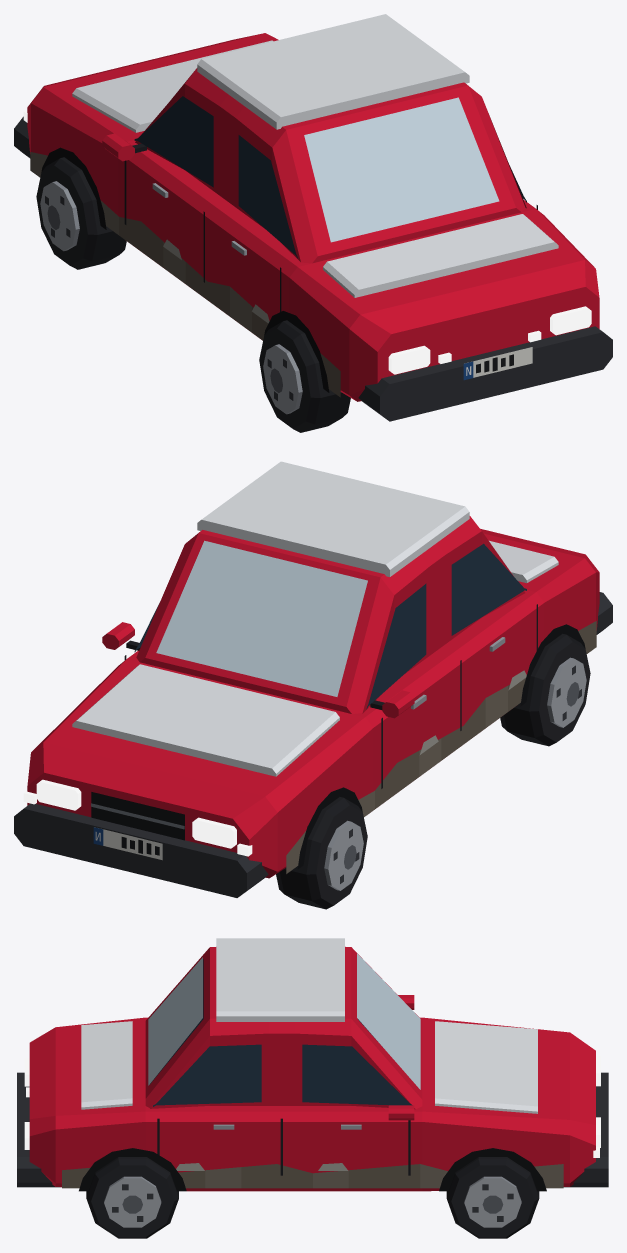
Rendered from sedan.glb.
The picture shows the model from 3 angles, top to bottom: view 1: azimuth 30°, elevation 25°; view 2: azimuth 150°, elevation 25°; view 3: azimuth 270°, elevation 25°; orthographic projection. The views are drawn at different scales.
Visible parts, largest first — view 1: body, wheel_RL, wheel_FL; view 2: body, wheel_FL, wheel_RL; view 3: body, wheel_FR, wheel_RR.
Part boxes in pixels (bbox=[...]): body: bbox=[14, 14, 612, 421]; wheel_RL: bbox=[259, 320, 350, 432]; wheel_FL: bbox=[36, 157, 126, 269]; body: bbox=[14, 461, 612, 897]; wheel_FL: bbox=[276, 797, 367, 909]; wheel_RL: bbox=[500, 633, 590, 746]; body: bbox=[17, 938, 608, 1191]; wheel_FR: bbox=[446, 1157, 539, 1238]; wheel_RR: bbox=[86, 1157, 178, 1238].
Size of the model in its own units: 2.15 by 1.81 by 4.66.
